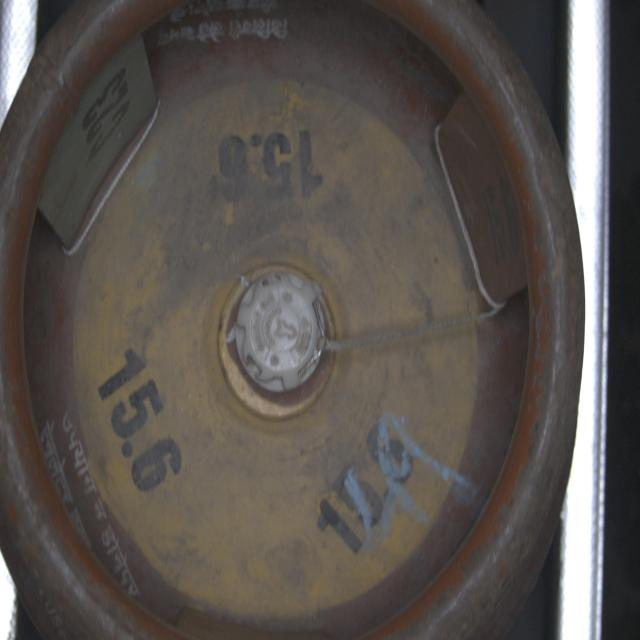Cap: (233, 269, 331, 393)
